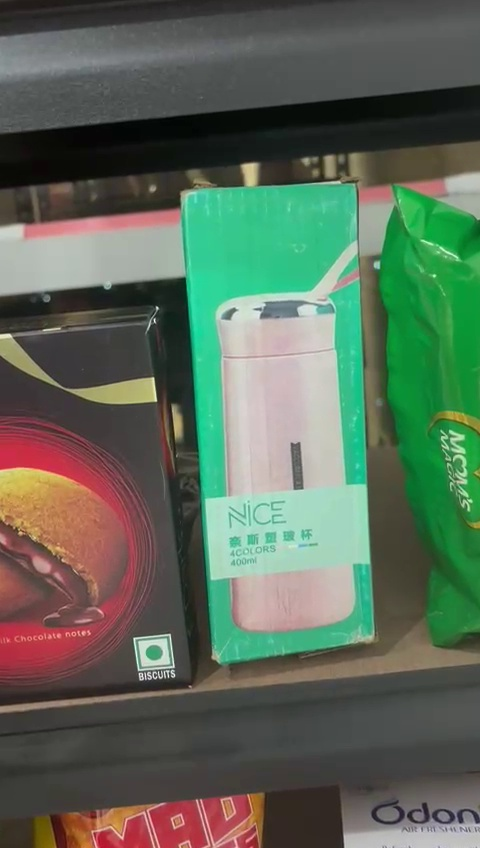Bottle: (173, 186, 384, 658)
